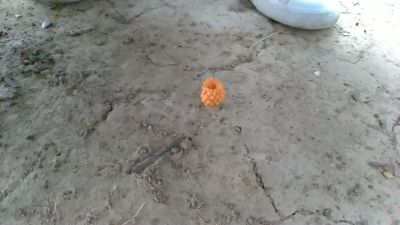eggs: (202, 76, 227, 110)
